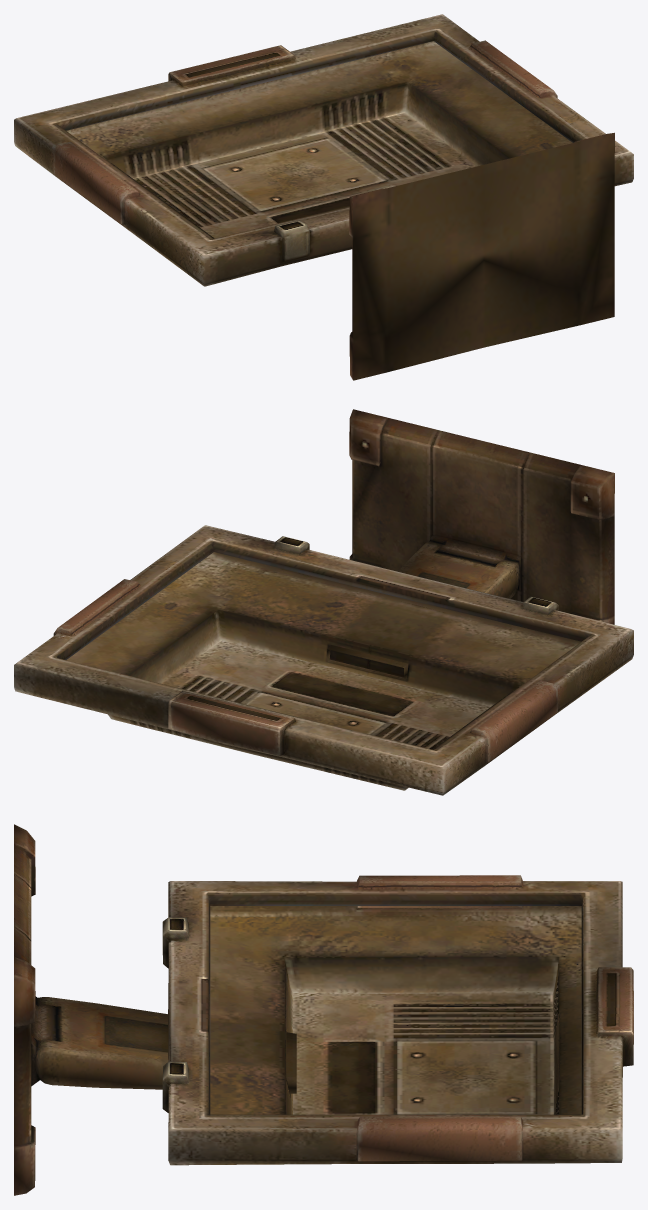
Rendered from monitor_habitat_broken_base.DAE.
The picture shows the model from 3 angles, top to bottom: view 1: azimuth 30°, elevation 25°; view 2: azimuth 150°, elevation 25°; view 3: azimuth 270°, elevation 25°; orthographic projection. The views are drawn at different scales.
Visible parts, largest first — view 1: monitor_habitat_broken_base; view 2: monitor_habitat_broken_base; view 3: monitor_habitat_broken_base.
Part boxes in pixels (x1,y1,x2,y2): monitor_habitat_broken_base: [14, 14, 633, 380]; monitor_habitat_broken_base: [14, 409, 633, 795]; monitor_habitat_broken_base: [14, 824, 633, 1195].
Size of the model in its own units: 44.44 by 45.87 by 17.93.
